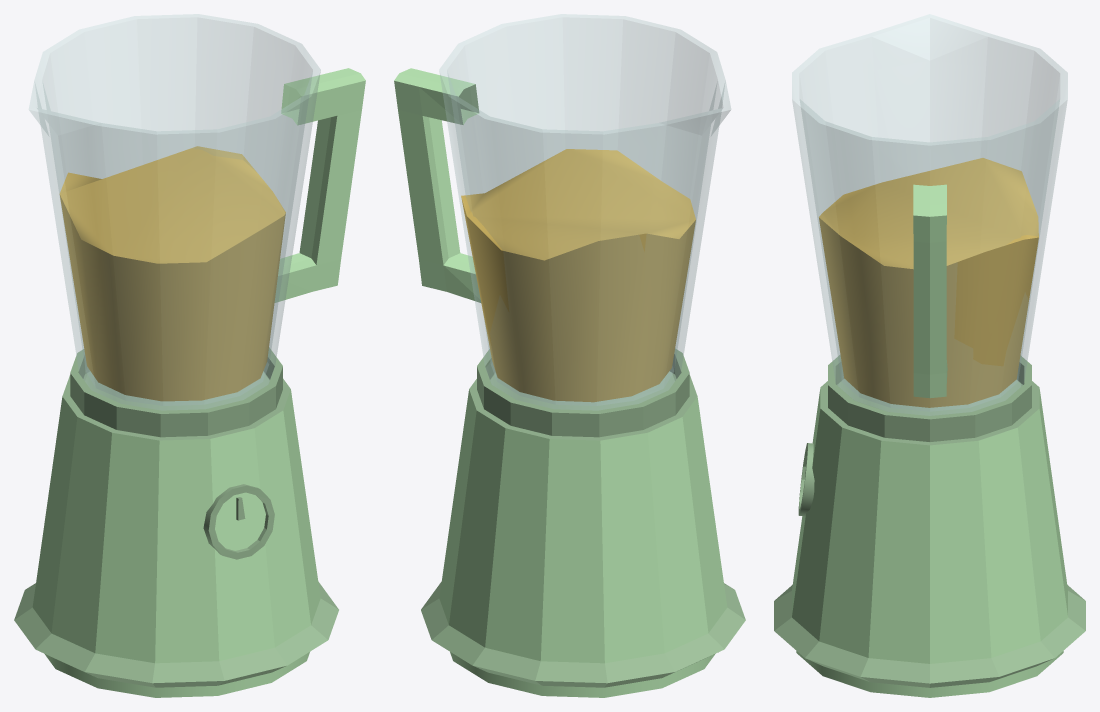
File: f06_blender_anim.FBX
3 renders of one model, left to right at view 1: azimuth 30°, elevation 25°; view 2: azimuth 150°, elevation 25°; view 3: azimuth 270°, elevation 25°, orthographic.
Visible parts, largest first — view 1: Cylinder003, Cylinder001, Cylinder005, Cylinder002; view 2: Cylinder003, Cylinder001, Cylinder005; view 3: Cylinder003, Cylinder001, Cylinder005, Cylinder002.
Part boxes in pixels (x1,y1,x2,y2): Cylinder003: (29,14,365,410); Cylinder001: (14,347,338,697); Cylinder005: (59,146,285,401); Cylinder002: (203,484,274,559); Cylinder003: (394,14,730,410); Cylinder001: (421,348,745,697); Cylinder005: (461,149,695,402); Cylinder003: (792,14,1067,415); Cylinder001: (774,355,1085,697); Cylinder005: (819,158,1038,407); Cylinder002: (798,443,814,516).
Bounding box in the file's own units: 44.96 × 73.19 × 37.26.
